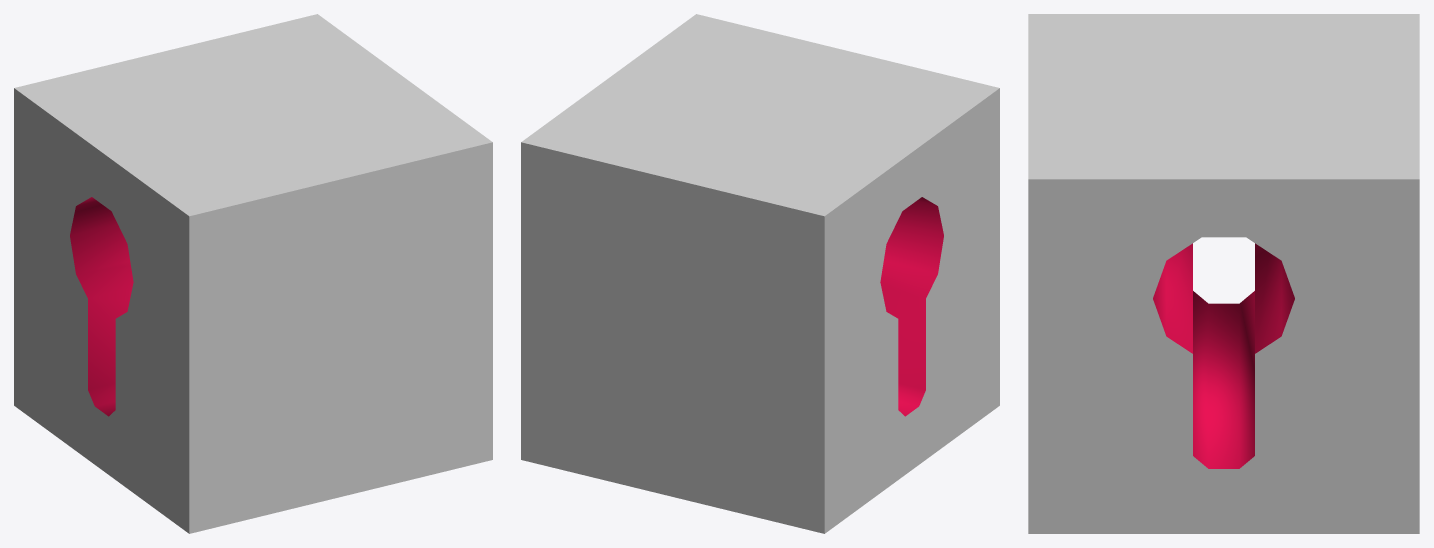
The model's file is keycube.fbx.
3 renders of one model, left to right at view 1: azimuth 30°, elevation 25°; view 2: azimuth 150°, elevation 25°; view 3: azimuth 270°, elevation 25°, orthographic. The views are drawn at different scales.
Parts seen in each view (by area): view 1: KeyCube; view 2: KeyCube; view 3: KeyCube.
Part boxes in pixels (x1,y1,x2,y2): KeyCube: (14, 14, 492, 533); KeyCube: (521, 14, 999, 533); KeyCube: (1028, 14, 1419, 533).
Size of the model in its own units: 100 by 100 by 100.
